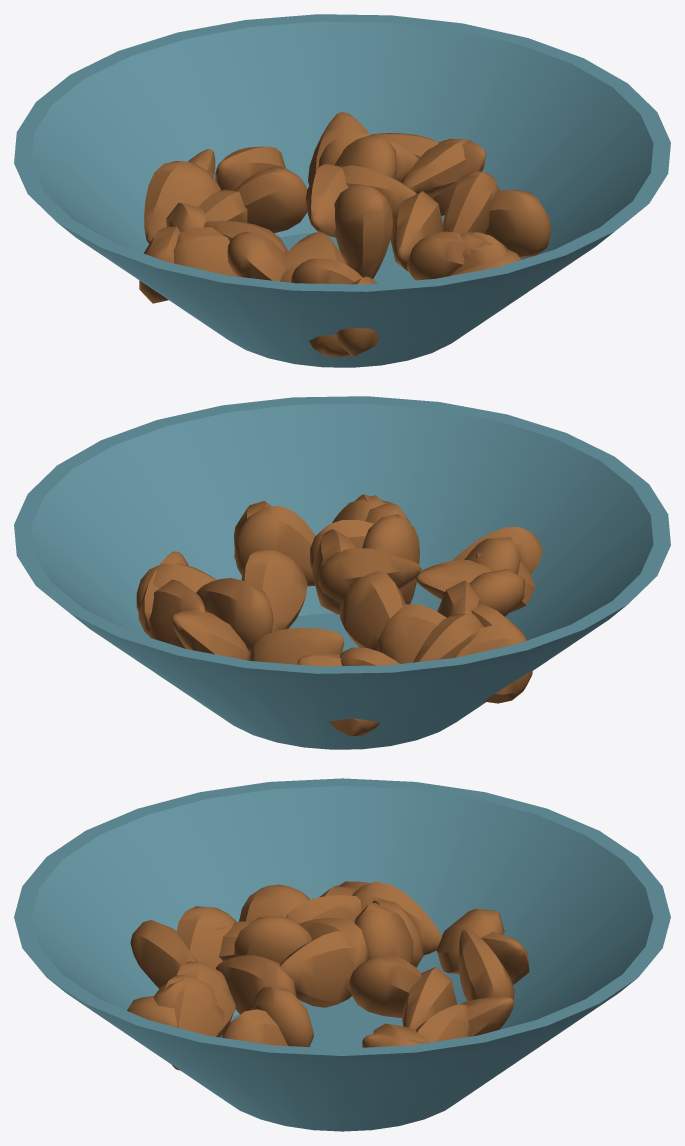
File: Almonds.fbx
The picture shows the model from 3 angles, top to bottom: view 1: azimuth 30°, elevation 25°; view 2: azimuth 150°, elevation 25°; view 3: azimuth 270°, elevation 25°; orthographic projection.
Parts seen in each view (by area): view 1: Almonds; view 2: Almonds; view 3: Almonds.
Boxes of the visible parts, bbox=[...] form: Almonds: bbox=[14, 14, 670, 367]; Almonds: bbox=[14, 396, 670, 749]; Almonds: bbox=[14, 778, 670, 1131].
Bounding box in the file's own units: 0.195 × 0.052 × 0.195.
